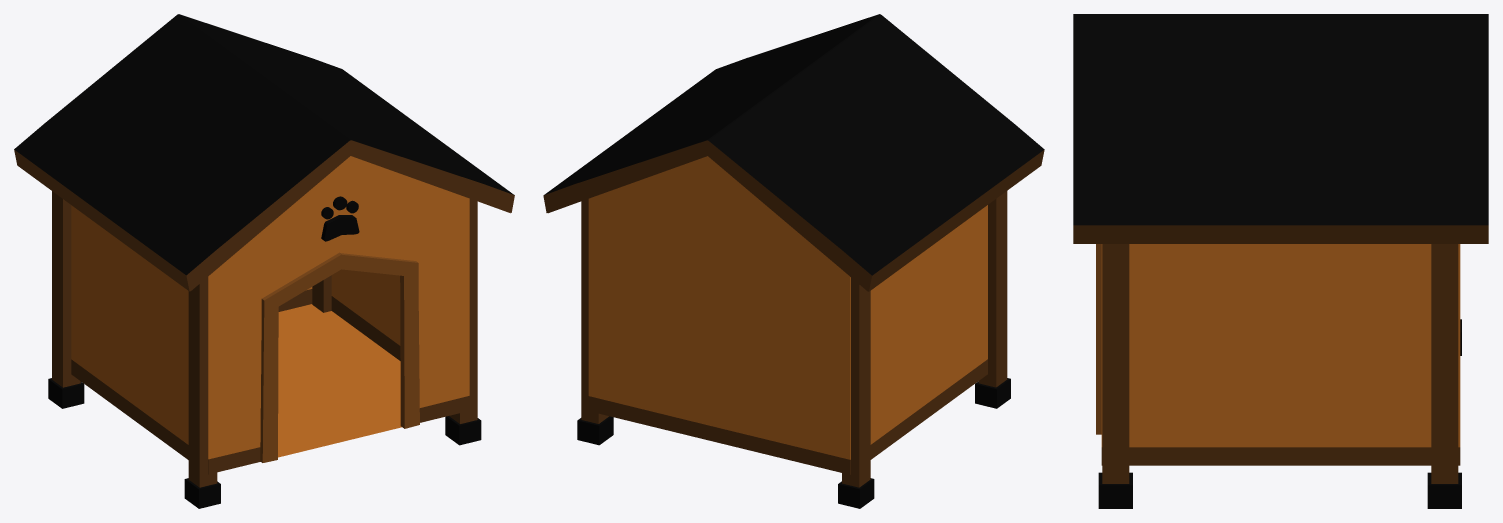
File: Dog_House.fbx
3 renders of one model, left to right at view 1: azimuth 30°, elevation 25°; view 2: azimuth 150°, elevation 25°; view 3: azimuth 270°, elevation 25°, orthographic. The views are drawn at different scales.
Parts seen in each view (by area): view 1: Cube.011; view 2: Cube.011; view 3: Cube.011.
Part boxes in pixels (left/top/right/bottom): Cube.011: left=14, top=14, right=514, bottom=508; Cube.011: left=543, top=14, right=1044, bottom=508; Cube.011: left=1073, top=14, right=1488, bottom=508.
Size of the model in its own units: 200 by 199 by 182.
